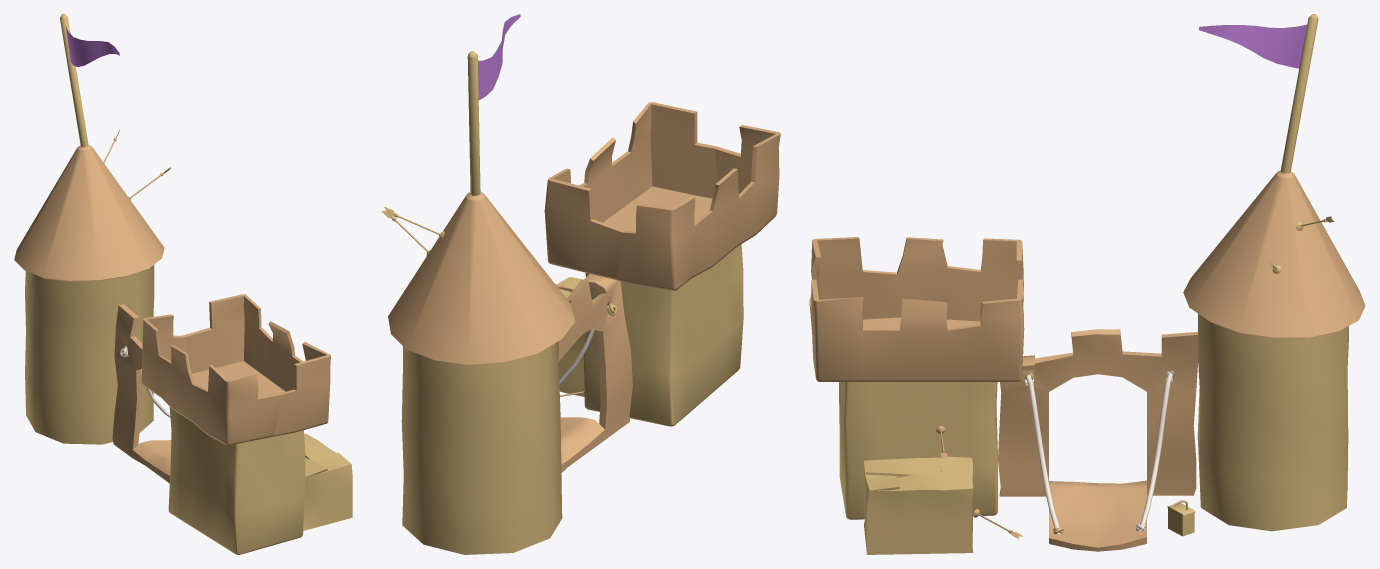
Rendered from cardboard_castle_purple.glb.
3 renders of one model, left to right at view 1: azimuth 30°, elevation 25°; view 2: azimuth 150°, elevation 25°; view 3: azimuth 270°, elevation 25°, orthographic. The views are drawn at different scales.
Visible parts, largest first — view 1: polySurface1, tower, polySurface2, pCylinder2, gate, cardboardbox1, pCylinder3, flag; view 2: polySurface1, tower, pCylinder2, polySurface2, gate, pCylinder3, cardboardbox1, flag; view 3: tower, polySurface1, gate, pCylinder2, polySurface2, cardboardbox1, flag, pCylinder3, R_rope, R_rope1, rooSIP.
Part boxes in pixels (x1,y1,x2,y2): polySurface1: (141,294,330,445); tower: (25,265,154,444); polySurface2: (168,407,305,554); pCylinder2: (14,145,164,281); gate: (112,304,171,483); cardboardbox1: (303,433,352,530); pCylinder3: (60,14,88,147); flag: (65,26,119,66); polySurface1: (544,102,780,290); tower: (401,341,562,554); pCylinder2: (388,192,575,364); polySurface2: (583,244,743,426); gate: (558,274,632,472); pCylinder3: (467,51,480,195); cardboardbox1: (557,277,585,396); flag: (478,14,520,100); tower: (1197,314,1348,531); polySurface1: (809,237,1024,381); gate: (998,329,1198,551); pCylinder2: (1183,170,1365,338); polySurface2: (839,382,997,519); cardboardbox1: (864,456,973,554); flag: (1199,24,1306,68); pCylinder3: (1280,14,1318,173); R_rope: (1026,374,1060,534); R_rope1: (1139,372,1172,530); rooSIP: (1167,503,1195,536).
Bounding box in the file's own units: 1.52 × 3.53 × 3.72.
